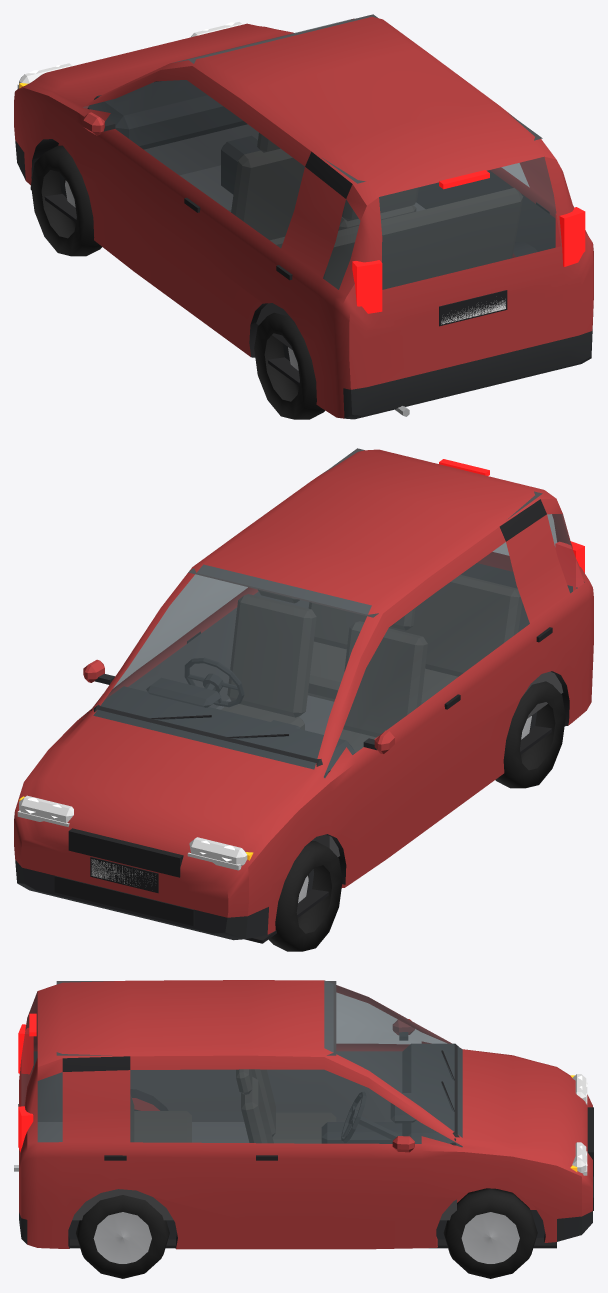
The model's file is hatchback_lod1.glb.
3 views of the same model, one above another, from view 1: azimuth 30°, elevation 25°; view 2: azimuth 150°, elevation 25°; view 3: azimuth 270°, elevation 25° (orthographic). The views are drawn at different scales.
Visible parts, largest first — view 1: car_body, wheel_fl, wheel_rl; view 2: car_body, wheel_fl, wheel_rl; view 3: car_body, wheel_fr, wheel_rr.
Boxes of the visible parts, x1,y1,x2,y2 form: car_body: (14,14,593,419); wheel_fl: (31,145,101,256); wheel_rl: (254,312,325,419); car_body: (14,448,593,943); wheel_fl: (268,841,342,951); wheel_rl: (495,681,565,788); car_body: (14,980,593,1249); wheel_fr: (443,1188,537,1278); wheel_rr: (76,1195,169,1278).
Size of the model in its own units: 1.98 by 1.62 by 3.94.
